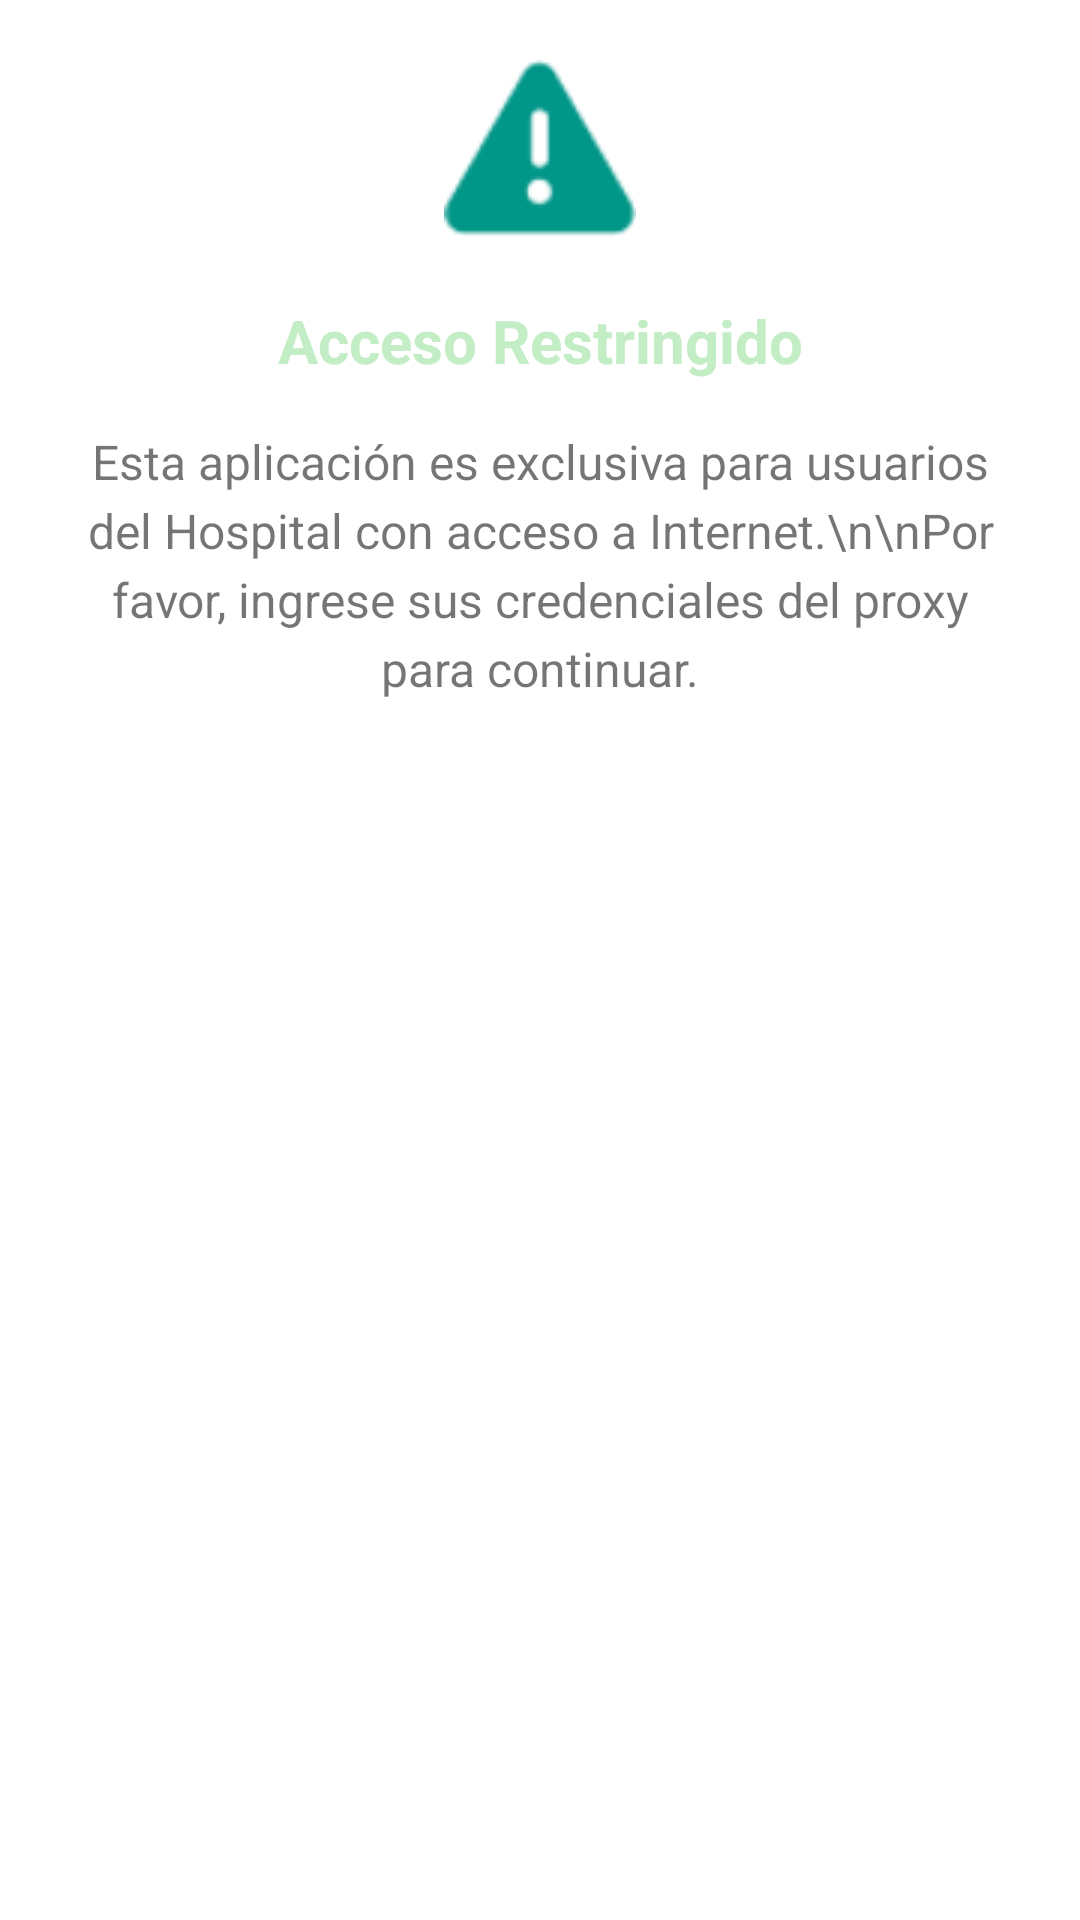

Where to tap for icons on this 1080 × 1920 app screen, as point (x, y):
alert: point (540, 147)
